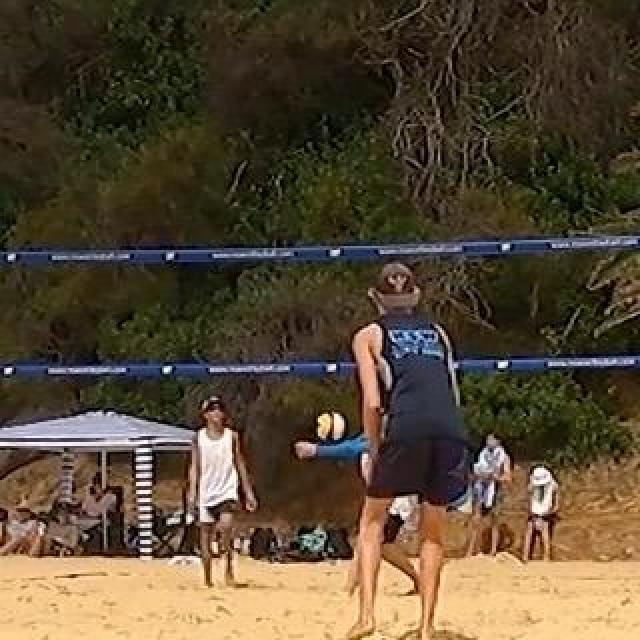volleyball: (317, 412, 347, 442)
